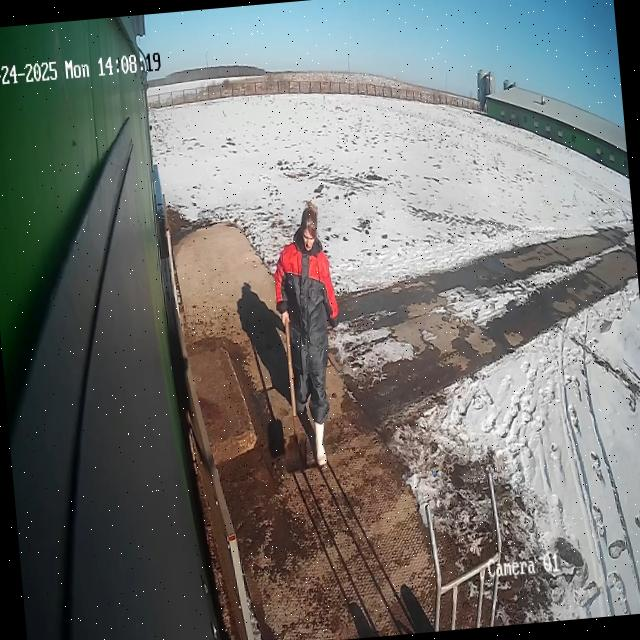Red uniform: (274, 202, 338, 464)
